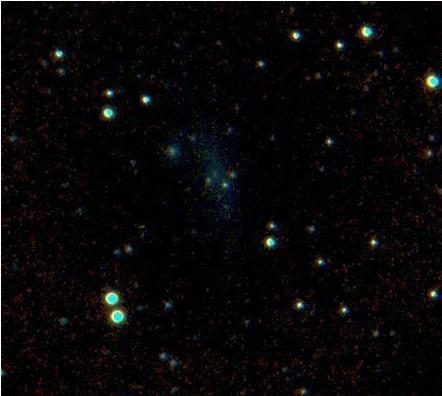star: (131, 218, 161, 248)
